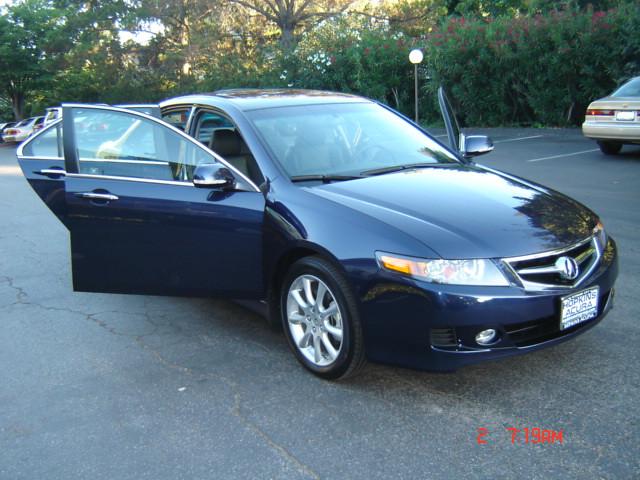car: (19, 86, 622, 387)
